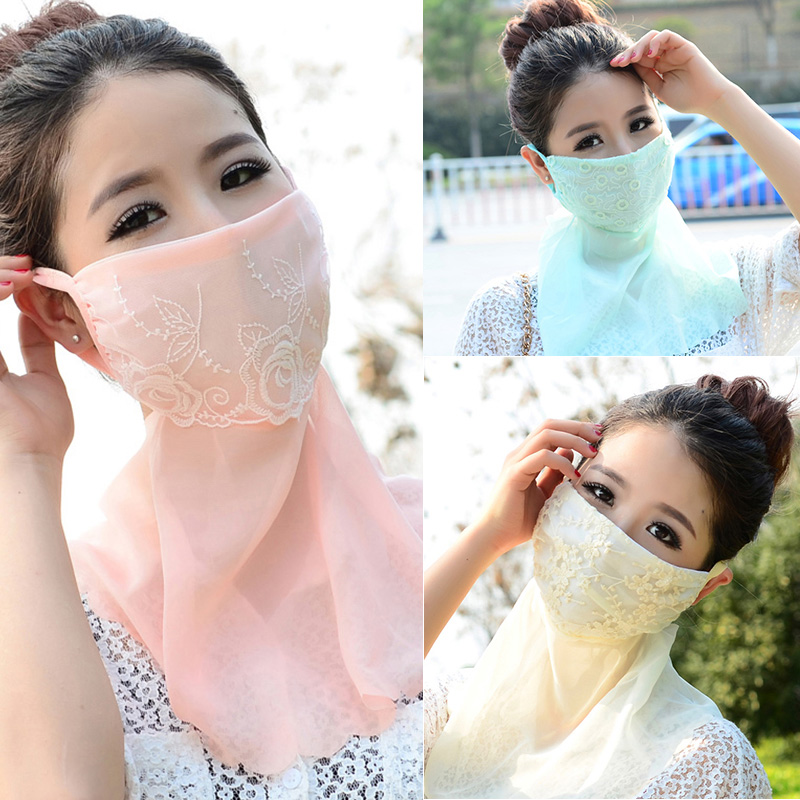face_mask: (64, 68, 330, 415), (540, 425, 712, 627), (550, 73, 664, 226)
